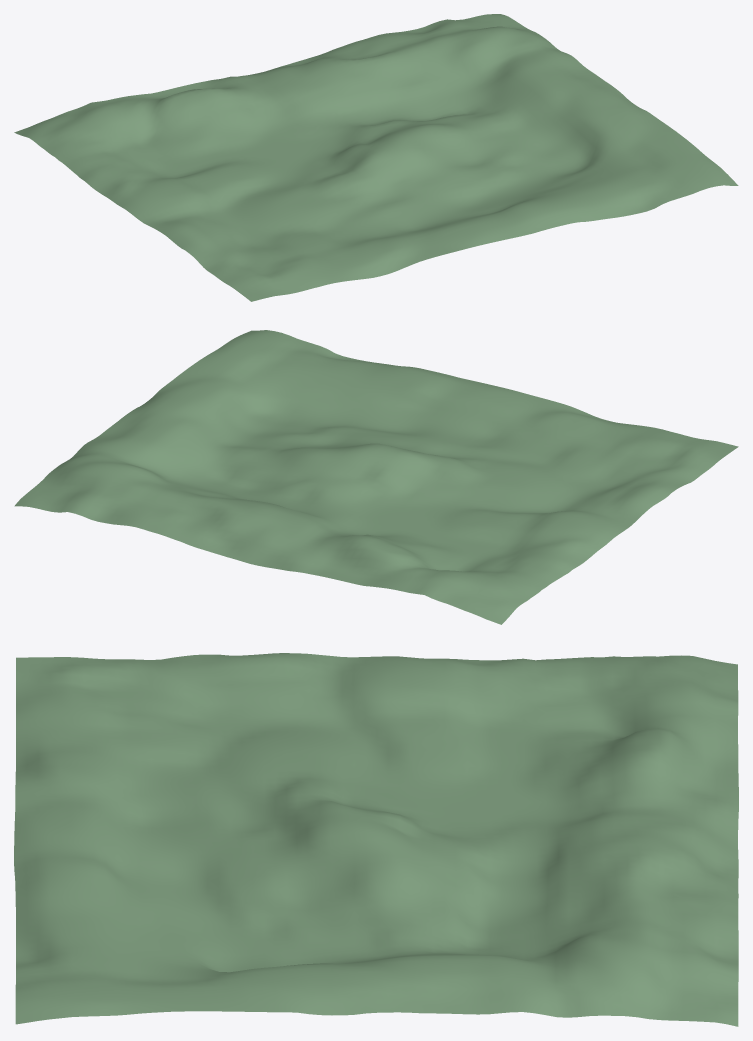
Rendered from m_terrain_1.fbx.
The picture shows the model from 3 angles, top to bottom: view 1: azimuth 30°, elevation 25°; view 2: azimuth 150°, elevation 25°; view 3: azimuth 270°, elevation 25°; orthographic projection. The views are drawn at different scales.
Parts seen in each view (by area): view 1: m_terrain_1; view 2: m_terrain_1; view 3: m_terrain_1.
Boxes of the visible parts, left/top/right/bottom form: m_terrain_1: left=14, top=14, right=738, bottom=301; m_terrain_1: left=14, top=330, right=738, bottom=624; m_terrain_1: left=14, top=653, right=738, bottom=1026.
Bounding box in the file's own units: 64.14 × 4.12 × 54.21.
